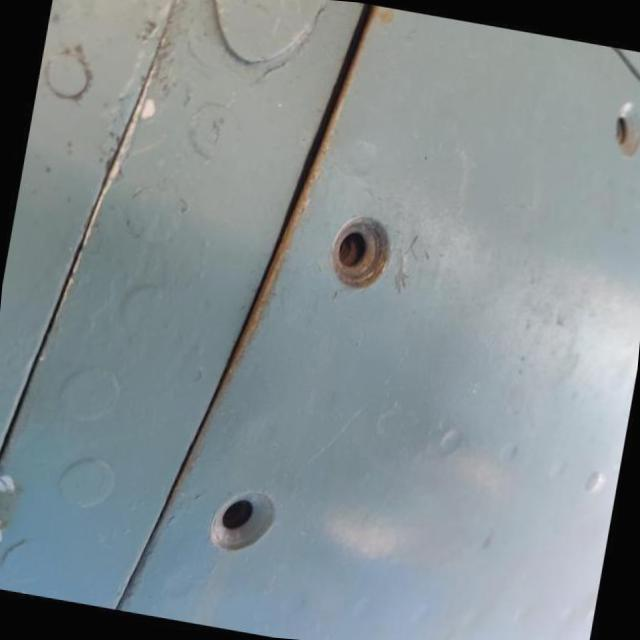Missing Fastener: (321, 210, 397, 298), (206, 483, 282, 559), (607, 97, 640, 160)
